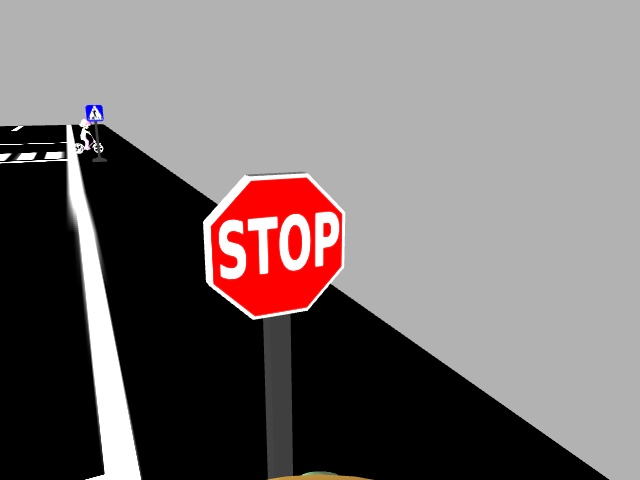Stop: (188, 167, 346, 319)
